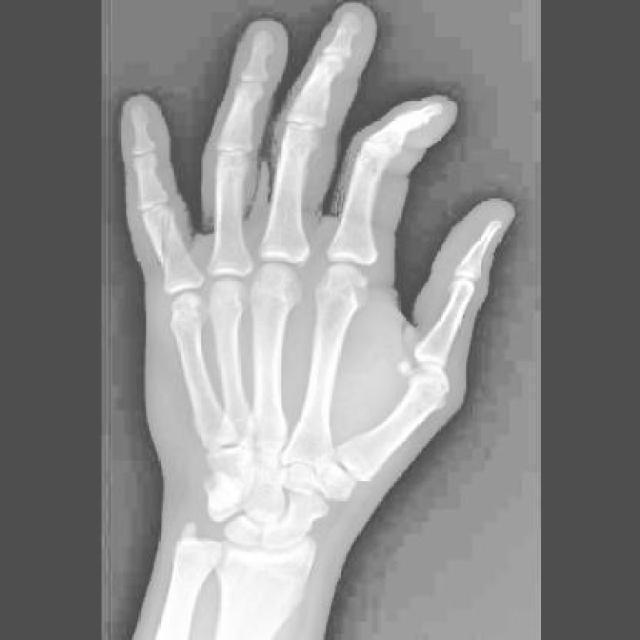Fracture: (154, 206, 183, 277)
